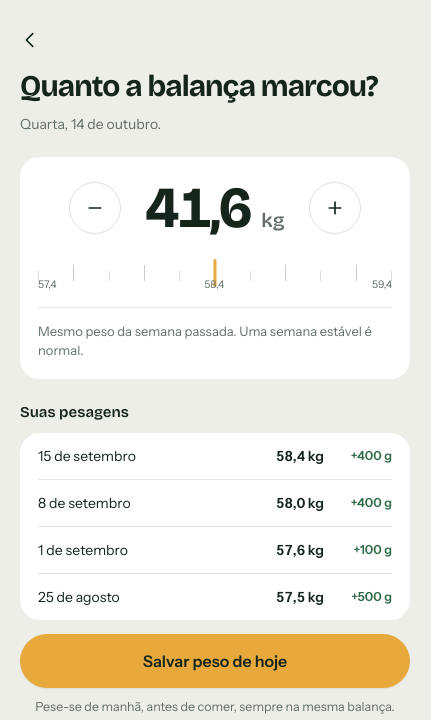
Test: Registrar peso (S16) › erro ao salvar: fica na tela, avisa e o botão volta
Click the button "Salvar peso de hoje".
click(215, 661)  # box [20,634,410,688]
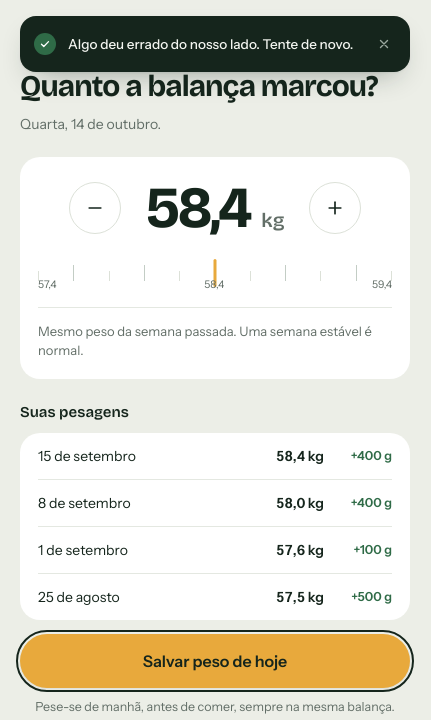
Check: the text "Algo deu errado do nosso lado. Tente de novo." is shown, box [68,34,356,54]
